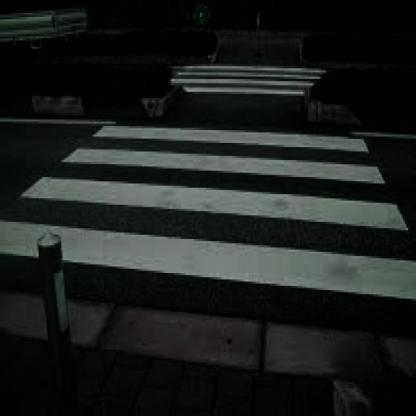crosswalk: (8, 143, 414, 237)
